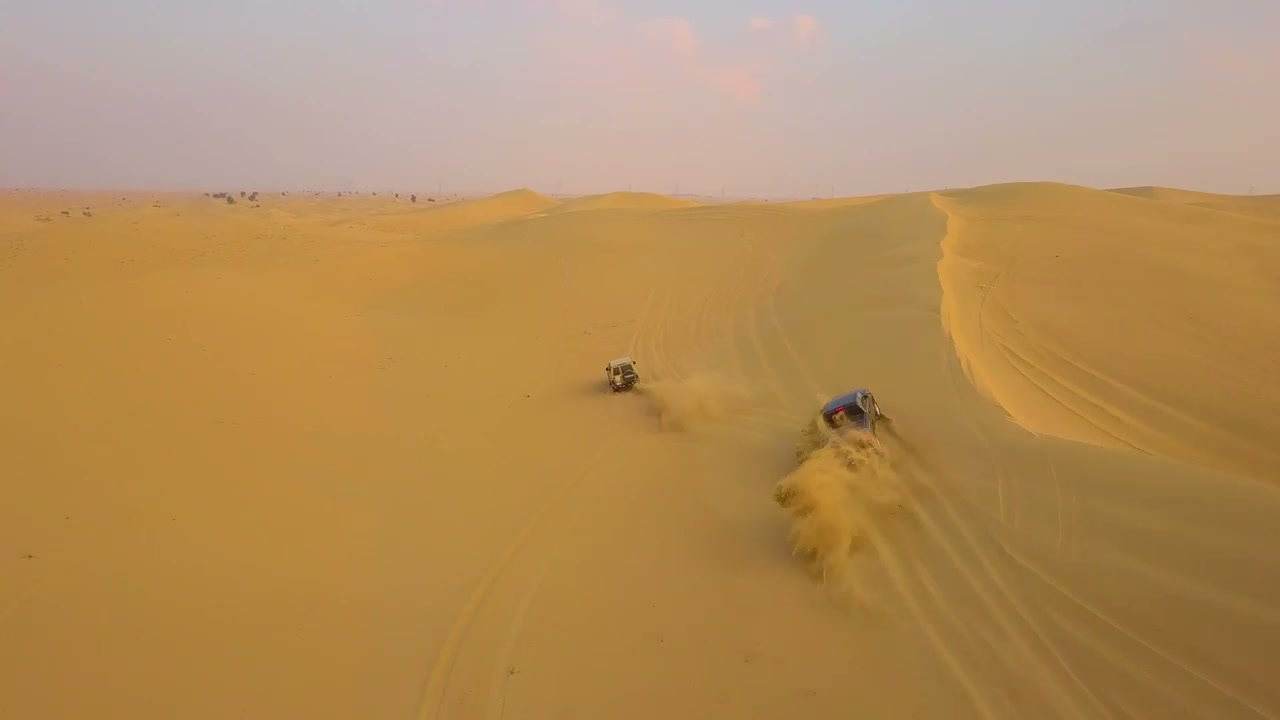vehicle_track: (417, 439, 619, 719), (903, 454, 1108, 717), (902, 471, 1104, 716), (1002, 545, 1275, 719), (487, 472, 621, 719), (848, 503, 998, 719), (633, 253, 792, 438), (859, 514, 999, 719), (1046, 606, 1220, 719), (729, 237, 803, 429), (955, 414, 1015, 524), (746, 307, 788, 411), (690, 263, 734, 356), (1042, 451, 1077, 550), (647, 285, 683, 380), (627, 287, 656, 358)
